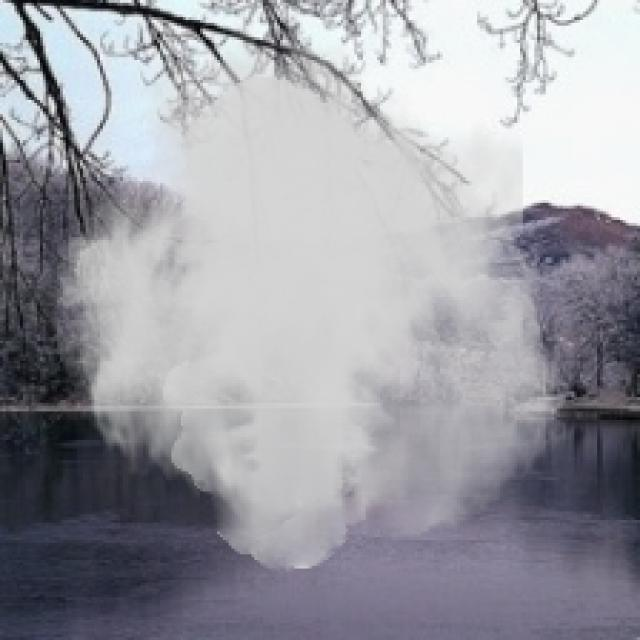Smoke: (49, 19, 568, 572)
